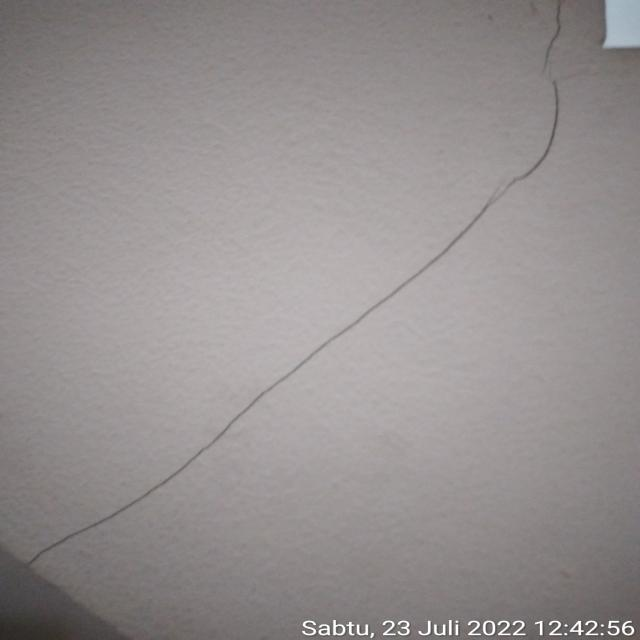Crack: (18, 467, 176, 570), (287, 274, 432, 378), (406, 172, 521, 274), (520, 3, 578, 172), (180, 379, 288, 464)
